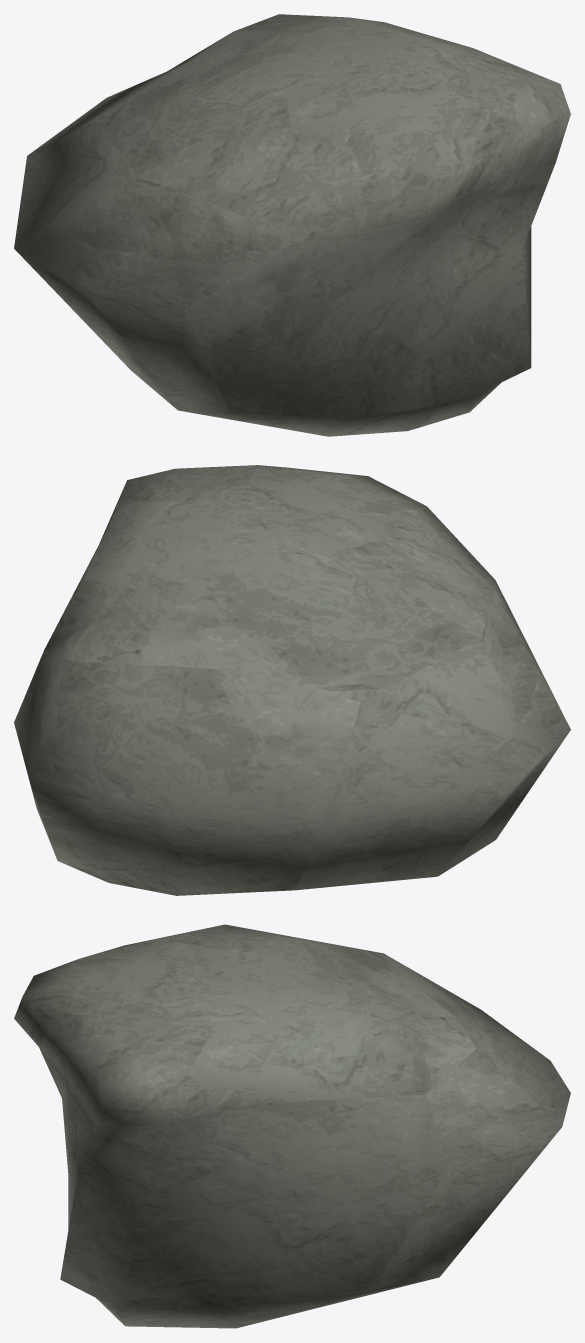
The model's file is Rock(Big2.FBX.
3 renders of one model, top to bottom at view 1: azimuth 30°, elevation 25°; view 2: azimuth 150°, elevation 25°; view 3: azimuth 270°, elevation 25°, orthographic. The views are drawn at different scales.
Parts seen in each view (by area): view 1: Box005; view 2: Box005; view 3: Box005.
Part boxes in pixels (x1,y1,x2,y2): Box005: (14,14,570,436); Box005: (14,465,570,895); Box005: (14,924,570,1328).
Bounding box in the file's own units: 6.01 × 3.98 × 6.12.
